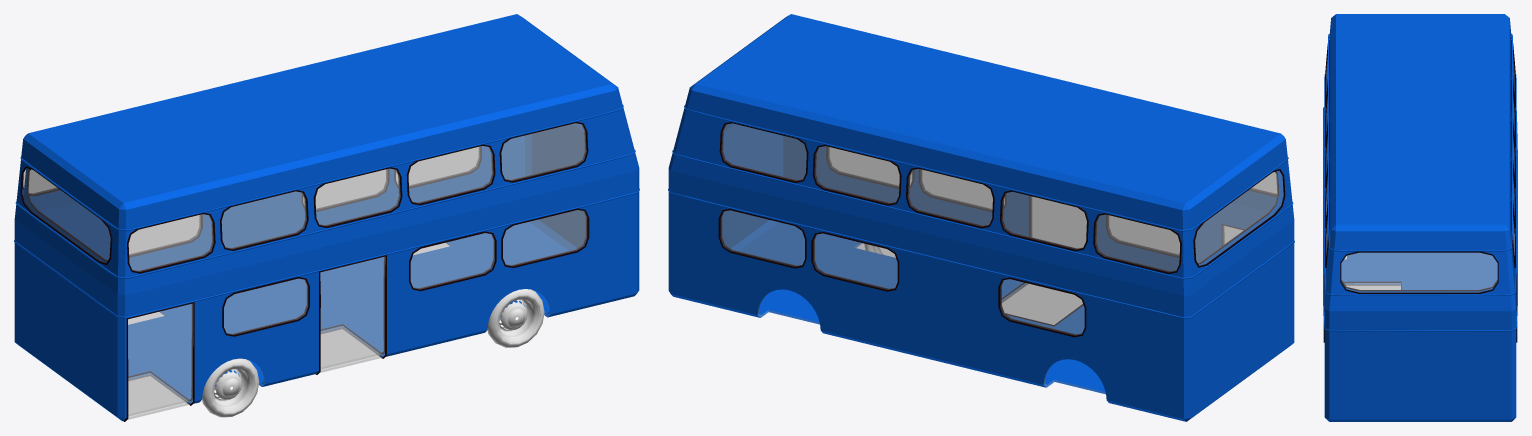
File: bus.glb
3 renders of one model, left to right at view 1: azimuth 30°, elevation 25°; view 2: azimuth 150°, elevation 25°; view 3: azimuth 270°, elevation 25°, orthographic. The views are drawn at different scales.
Visible parts, largest first — view 1: Body, Wheel.001, Wheel, Ring2, Ring3, Ring1; view 2: Body, Ring2, Ring1, Ring3; view 3: Body, Ring3, Ring2, Ring1.
Part boxes in pixels (left/top/right/bottom): Body: left=14, top=14, right=639, bottom=421; Wheel.001: left=202, top=358, right=259, bottom=417; Wheel: left=487, top=289, right=544, bottom=347; Ring2: left=15, top=150, right=635, bottom=278; Ring3: left=14, top=188, right=639, bottom=318; Ring1: left=20, top=105, right=623, bottom=231; Body: left=668, top=14, right=1294, bottom=421; Ring2: left=672, top=150, right=1293, bottom=279; Ring1: left=684, top=105, right=1288, bottom=231; Ring3: left=668, top=189, right=1294, bottom=318; Body: left=1323, top=14, right=1517, bottom=421; Ring3: left=1323, top=107, right=1517, bottom=331; Ring2: left=1324, top=73, right=1516, bottom=295; Ring1: left=1328, top=34, right=1512, bottom=251.
Bounding box in the file's own units: 4.63 × 2.01 × 1.69.
